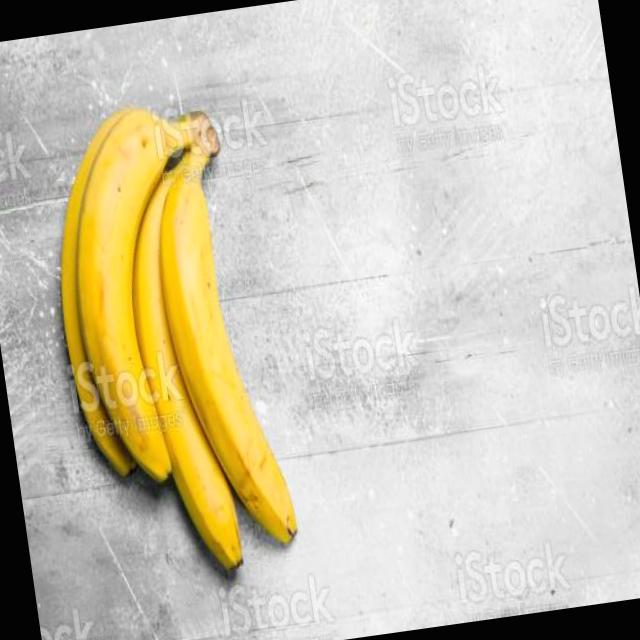banana: (32, 87, 308, 597)
